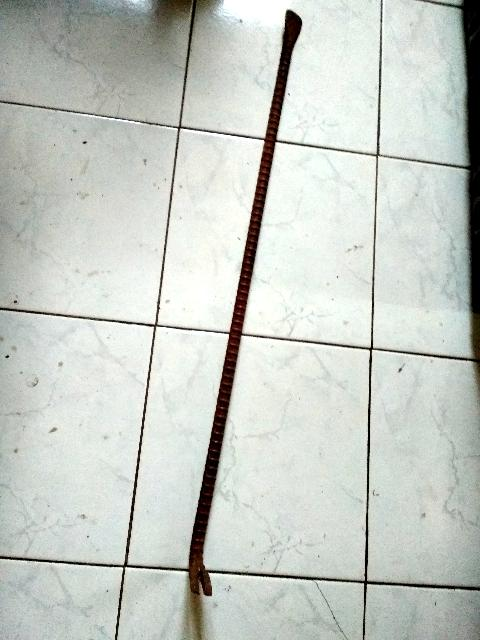crow bar: (183, 8, 306, 602)
